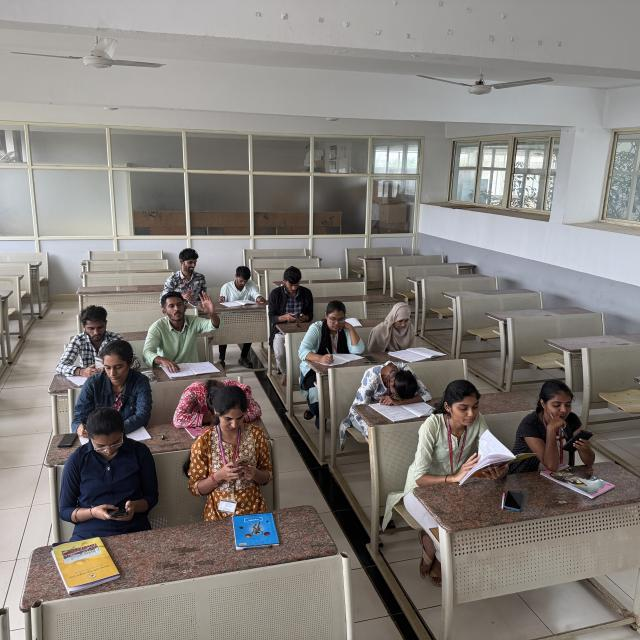Hand Rising: (138, 275, 228, 370)
Reading: (408, 363, 525, 481), (374, 304, 472, 364), (213, 247, 272, 320)
Sleeping: (176, 375, 283, 435), (353, 348, 427, 422)
Using Phone: (64, 401, 163, 553), (501, 351, 630, 464), (190, 386, 284, 507), (263, 259, 319, 331)
Writing: (67, 352, 164, 438), (298, 302, 360, 364)
